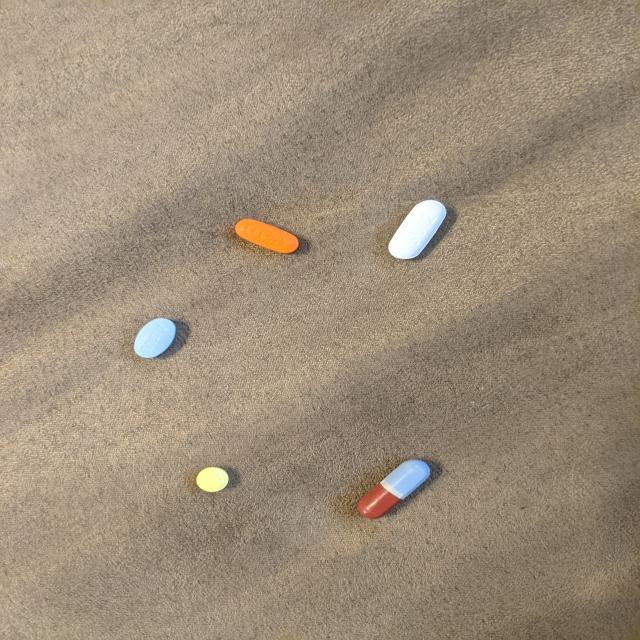non-organic waste: (357, 458, 432, 521), (387, 200, 447, 260), (234, 218, 300, 254), (131, 316, 178, 360), (195, 465, 230, 493)
